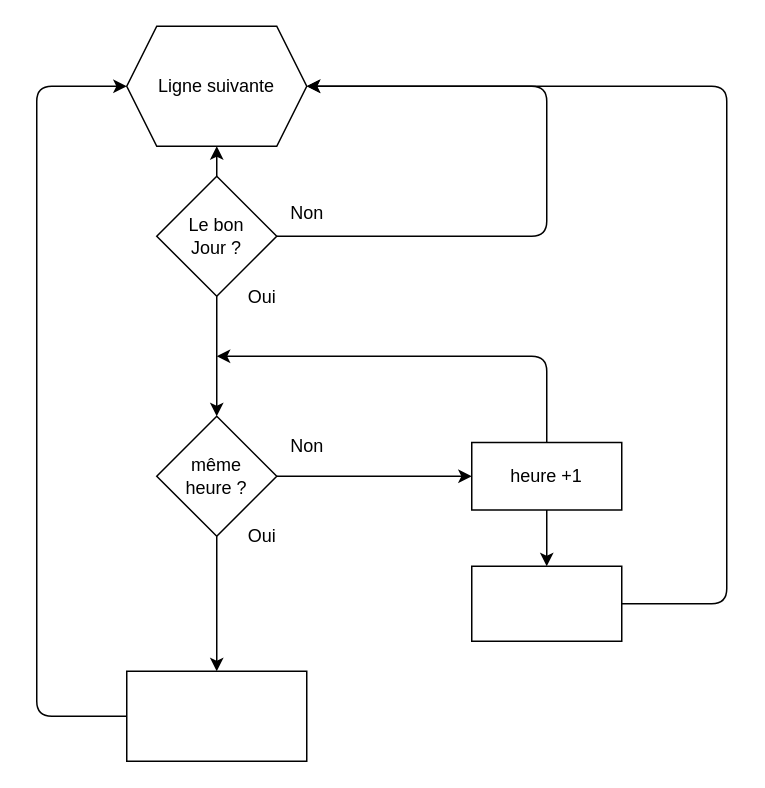
Some shapes in this 765 by 788 pixel diagram are drawn without their labels. The centre of each missing label's shape, as x and y in pixels:
"Ajout à la liste" goes at point 216,715.
"ajout à la matrice la liste" goes at point 546,603.
